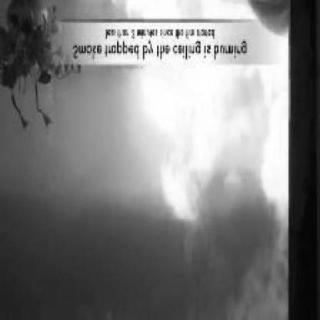Fire: (106, 5, 286, 268)
